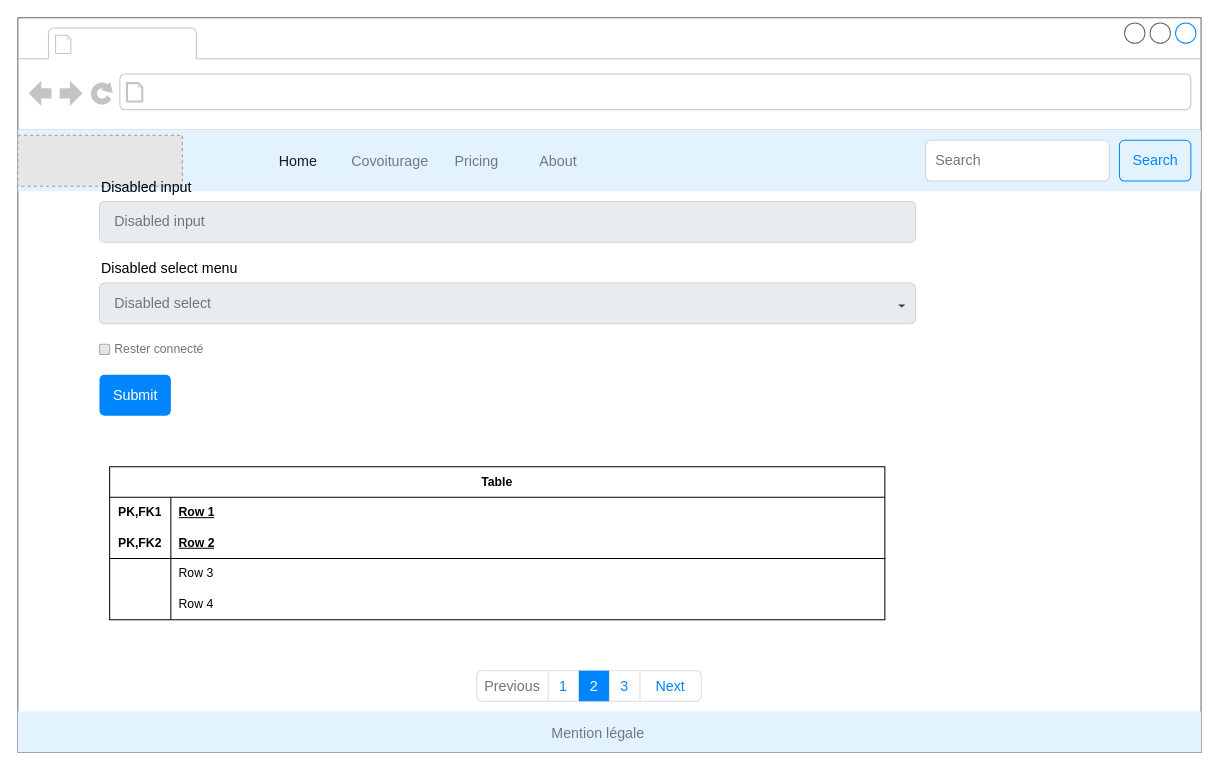
This 1219x771 diagram has some shape labels left out. Grey dashed boxes stand in for pictures. The box of each missing label's shape, as (x1, y1, x2, y2) in pixels:
https://www.draw.io: (149, 78, 405, 106)
Page 1: (78, 29, 191, 57)
